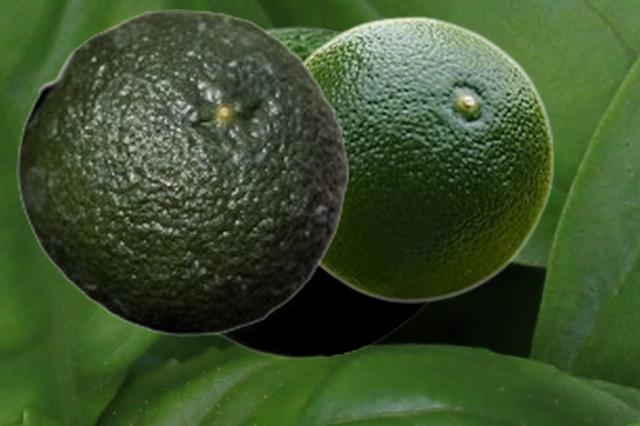calamansi: (16, 9, 349, 335), (302, 15, 555, 302), (214, 25, 431, 359)
